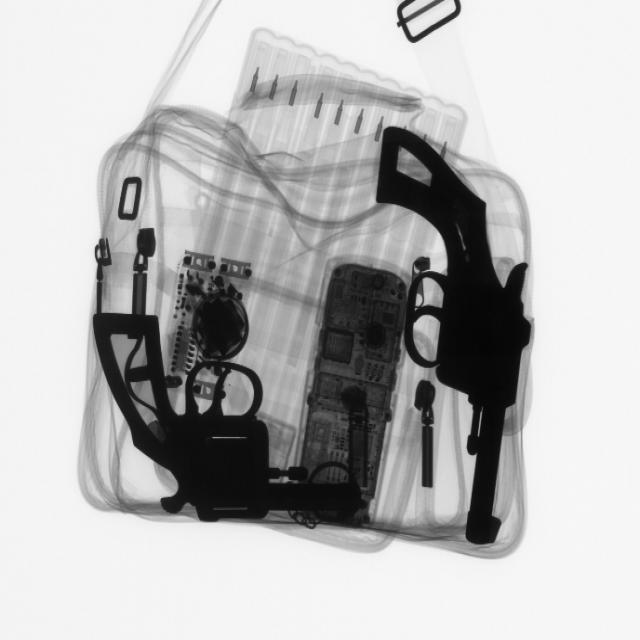GUN: (386, 121, 542, 561), (98, 305, 364, 530)
